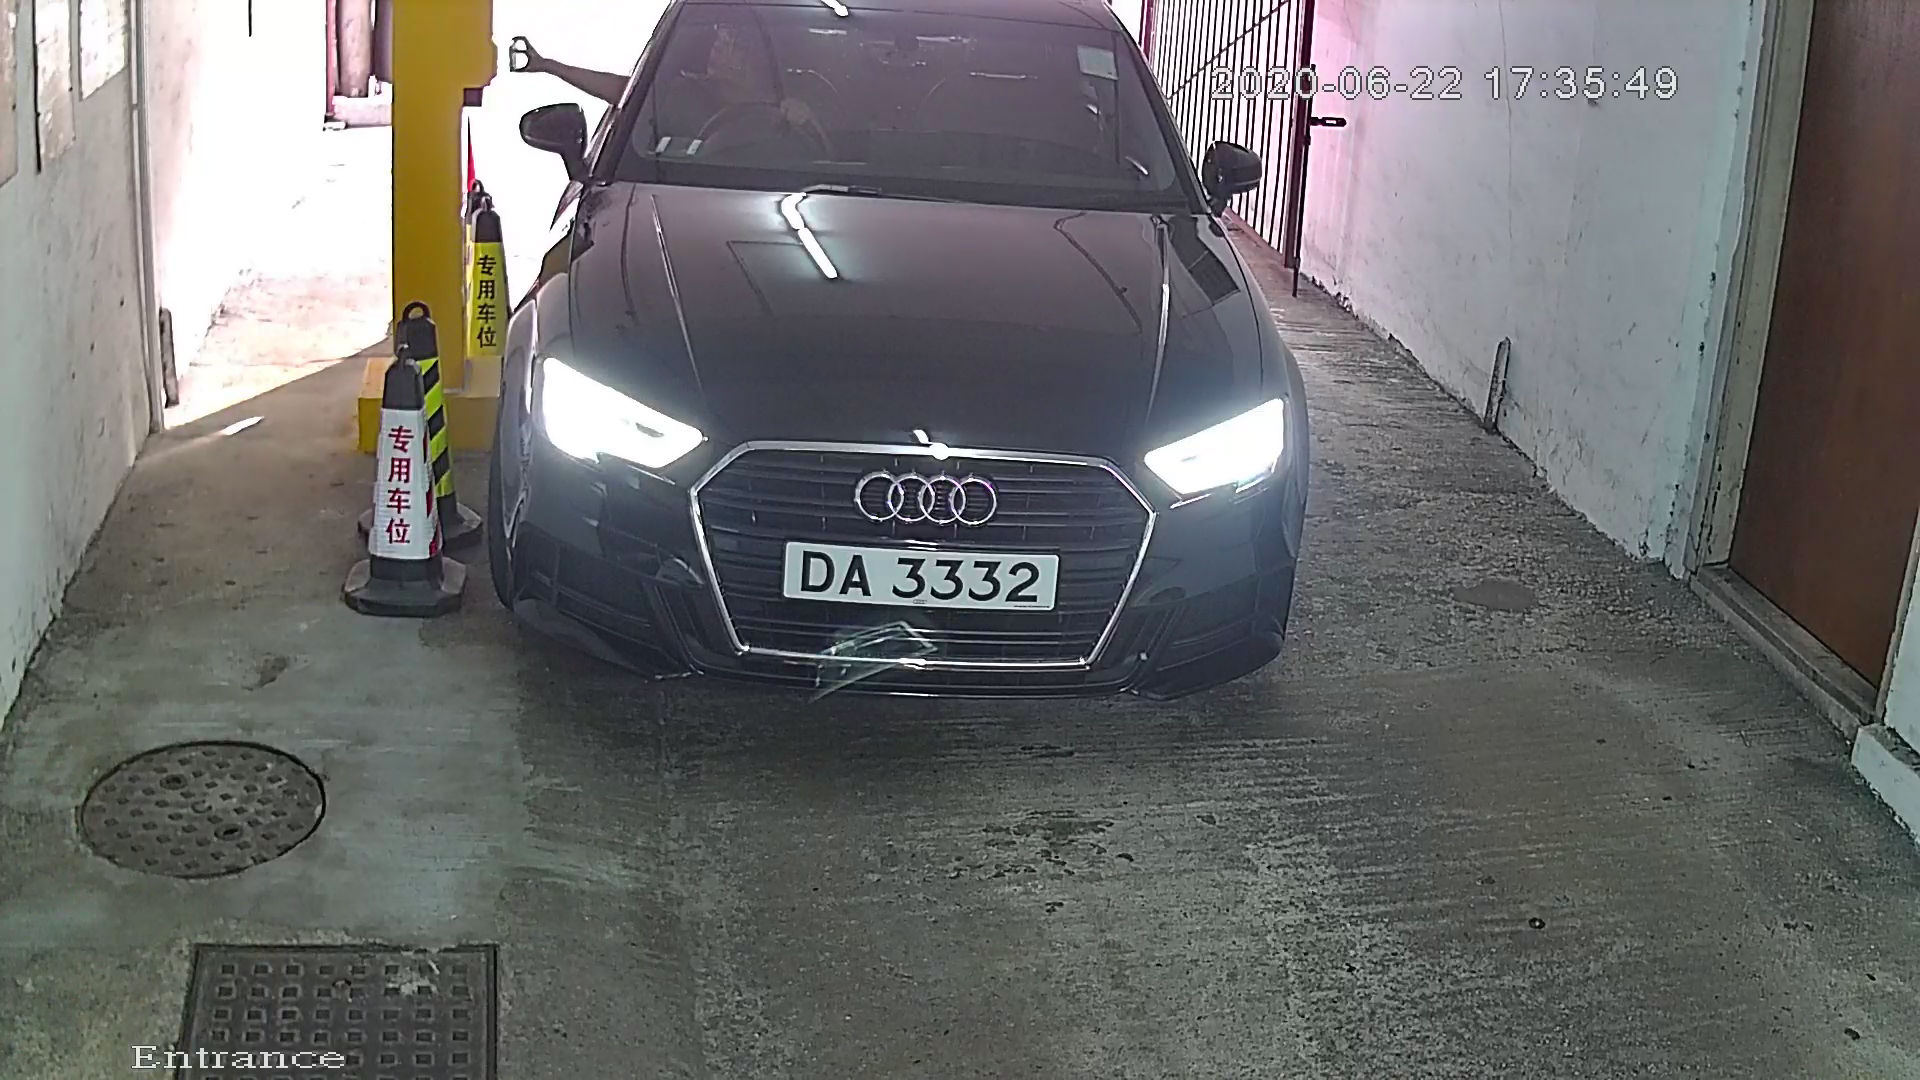privatecar: (464, 1, 1369, 752)
